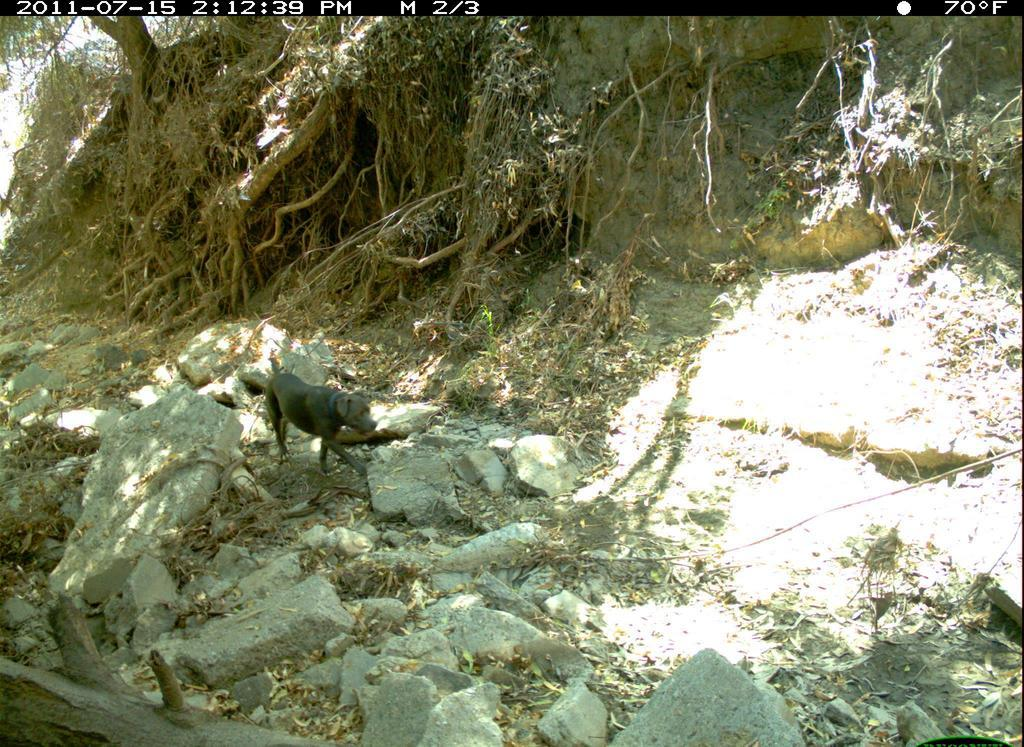dog: (257, 353, 383, 487)
